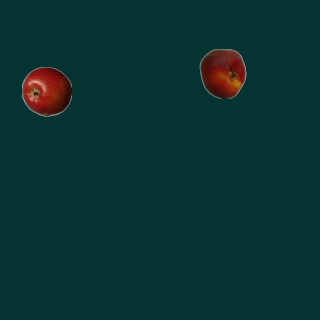Apple Braeburn: (21, 66, 71, 116)
Nectarine Flat: (197, 48, 247, 98)
